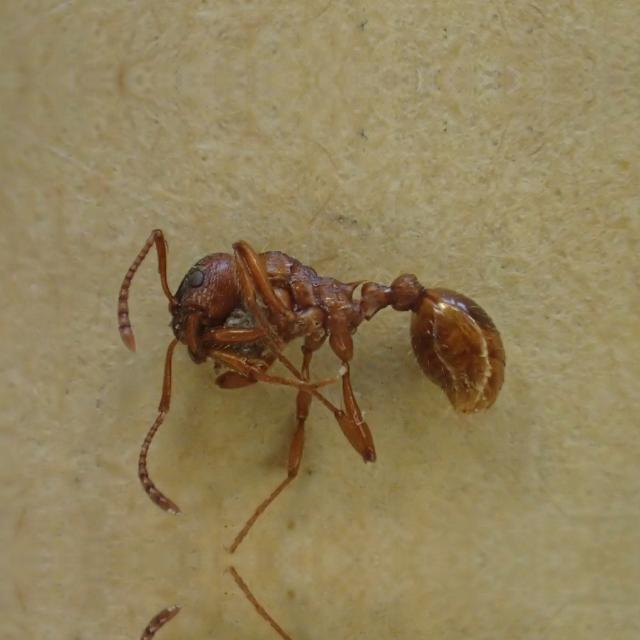Myrmica: (122, 197, 564, 508)
